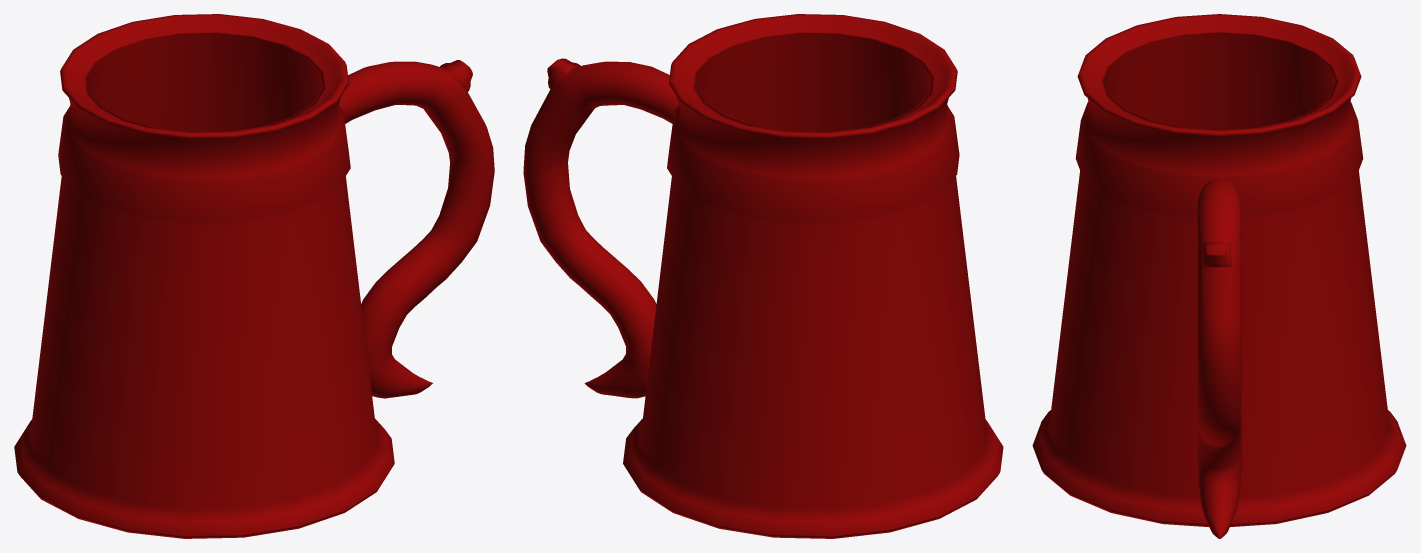
The model's file is Tavern_Beer_Cup_FBX.fbx.
The picture shows the model from 3 angles, left to right: view 1: azimuth 30°, elevation 25°; view 2: azimuth 150°, elevation 25°; view 3: azimuth 270°, elevation 25°; orthographic projection. The views are drawn at different scales.
Visible parts, largest first — view 1: Tavern_Beer_Cup; view 2: Tavern_Beer_Cup; view 3: Tavern_Beer_Cup.
Boxes of the visible parts, bbox=[...] form: Tavern_Beer_Cup: bbox=[14, 14, 494, 538]; Tavern_Beer_Cup: bbox=[523, 14, 1003, 538]; Tavern_Beer_Cup: bbox=[1032, 14, 1406, 538].
Bounding box in the file's own units: 24.89 × 18.22 × 20.24.
